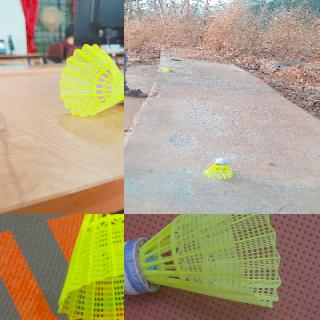shuttlecock: (124, 214, 280, 309), (59, 214, 123, 319), (56, 43, 123, 117), (204, 158, 233, 179), (160, 67, 173, 71)
